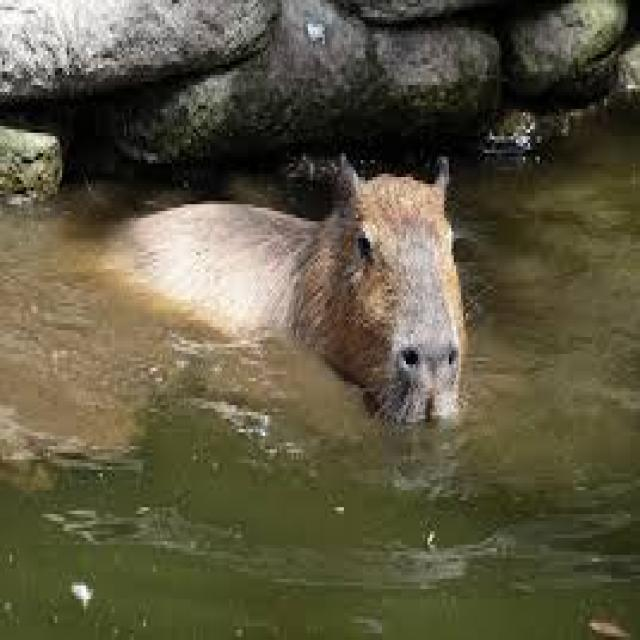capy: (43, 149, 472, 435)
